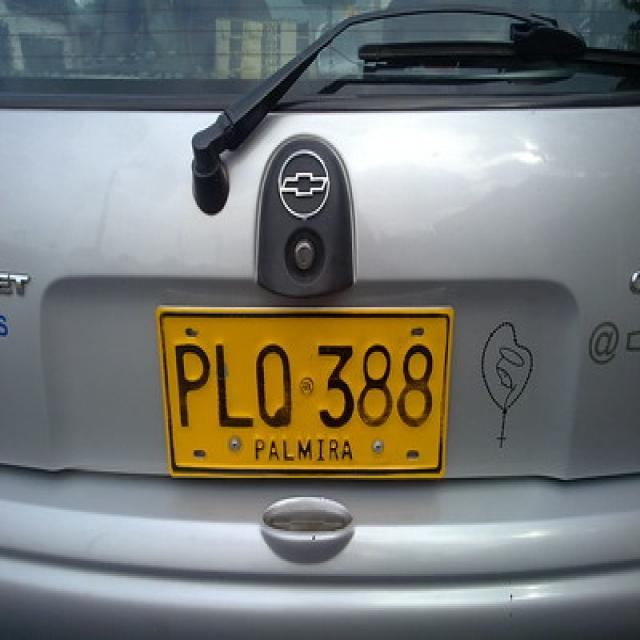placa_carro: (160, 301, 459, 497)
